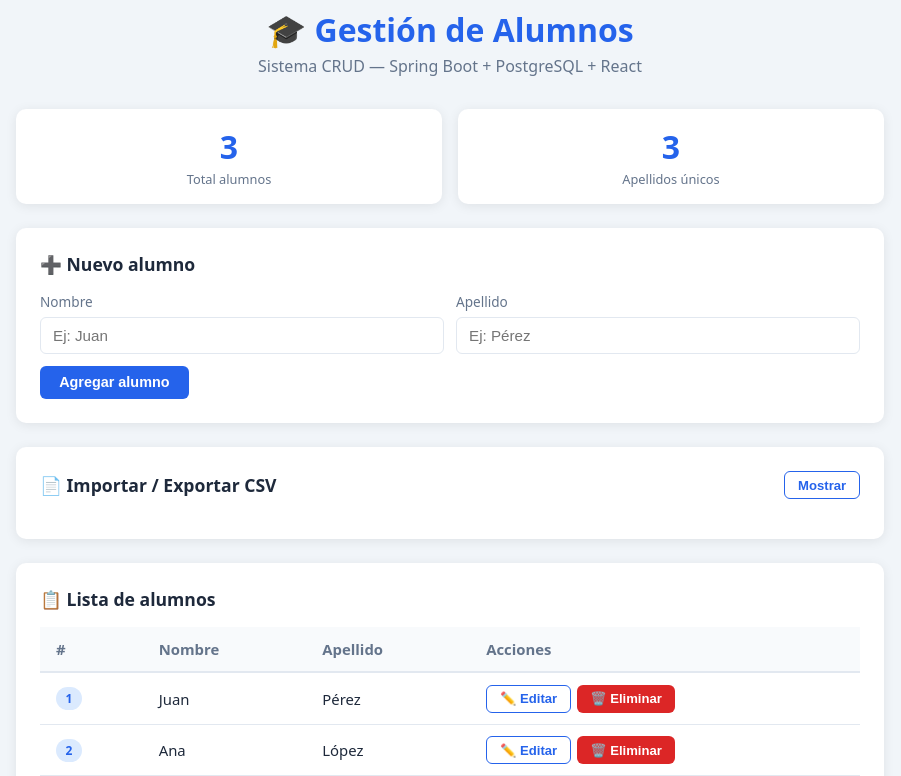
Test case: App — flujo de edición › activa el modo edición al hacer click en Editar
This screenshot has width=901, height=776.
Click the button titled "Editar" in the row of "Juan": point(529, 699) [486,684,571,713]
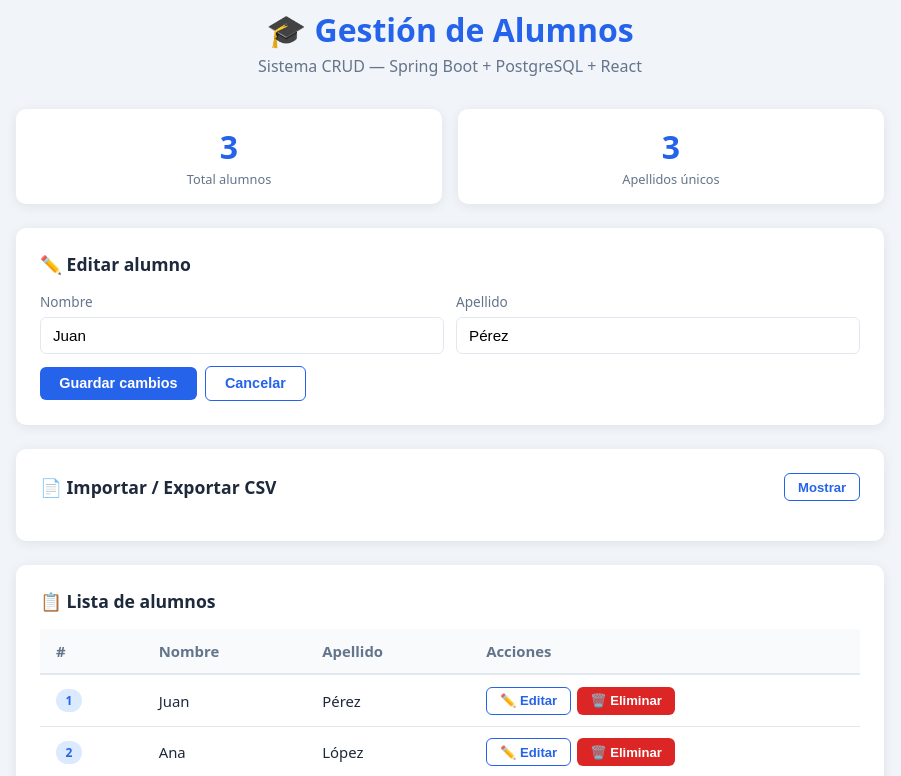
Now the text "✏️ Editar alumno" is shown, box [40,252,191,276]
